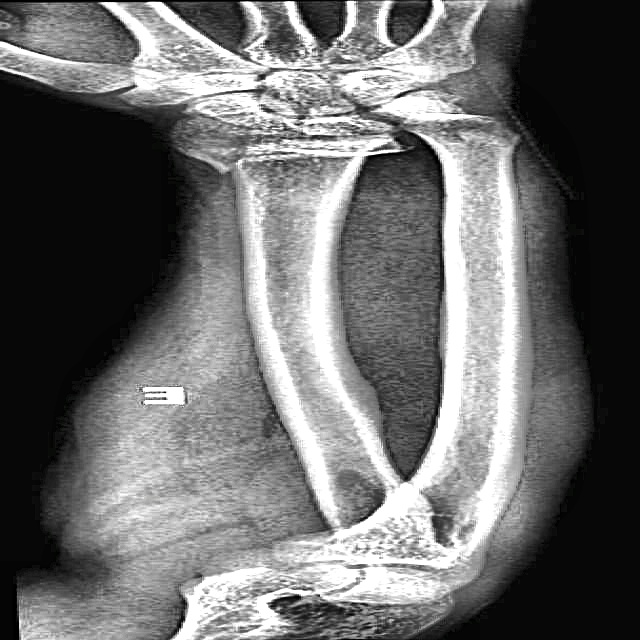Healthy: (206, 195, 572, 501)
